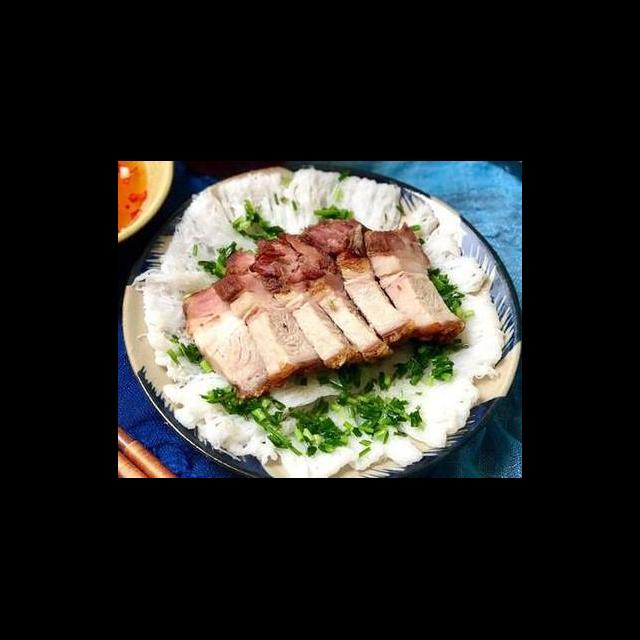banh hoi: (355, 348, 504, 452), (159, 366, 301, 471), (155, 185, 266, 298), (264, 372, 377, 478), (130, 262, 222, 388), (414, 278, 508, 388), (398, 200, 491, 300), (213, 168, 294, 250), (327, 172, 404, 240), (276, 164, 344, 240)
banh hoi heo quay: (138, 181, 515, 477)
thit heo quay: (359, 222, 467, 350), (210, 268, 326, 382), (179, 280, 277, 402), (246, 216, 376, 294), (270, 276, 364, 371), (334, 248, 419, 348), (307, 270, 397, 364)
